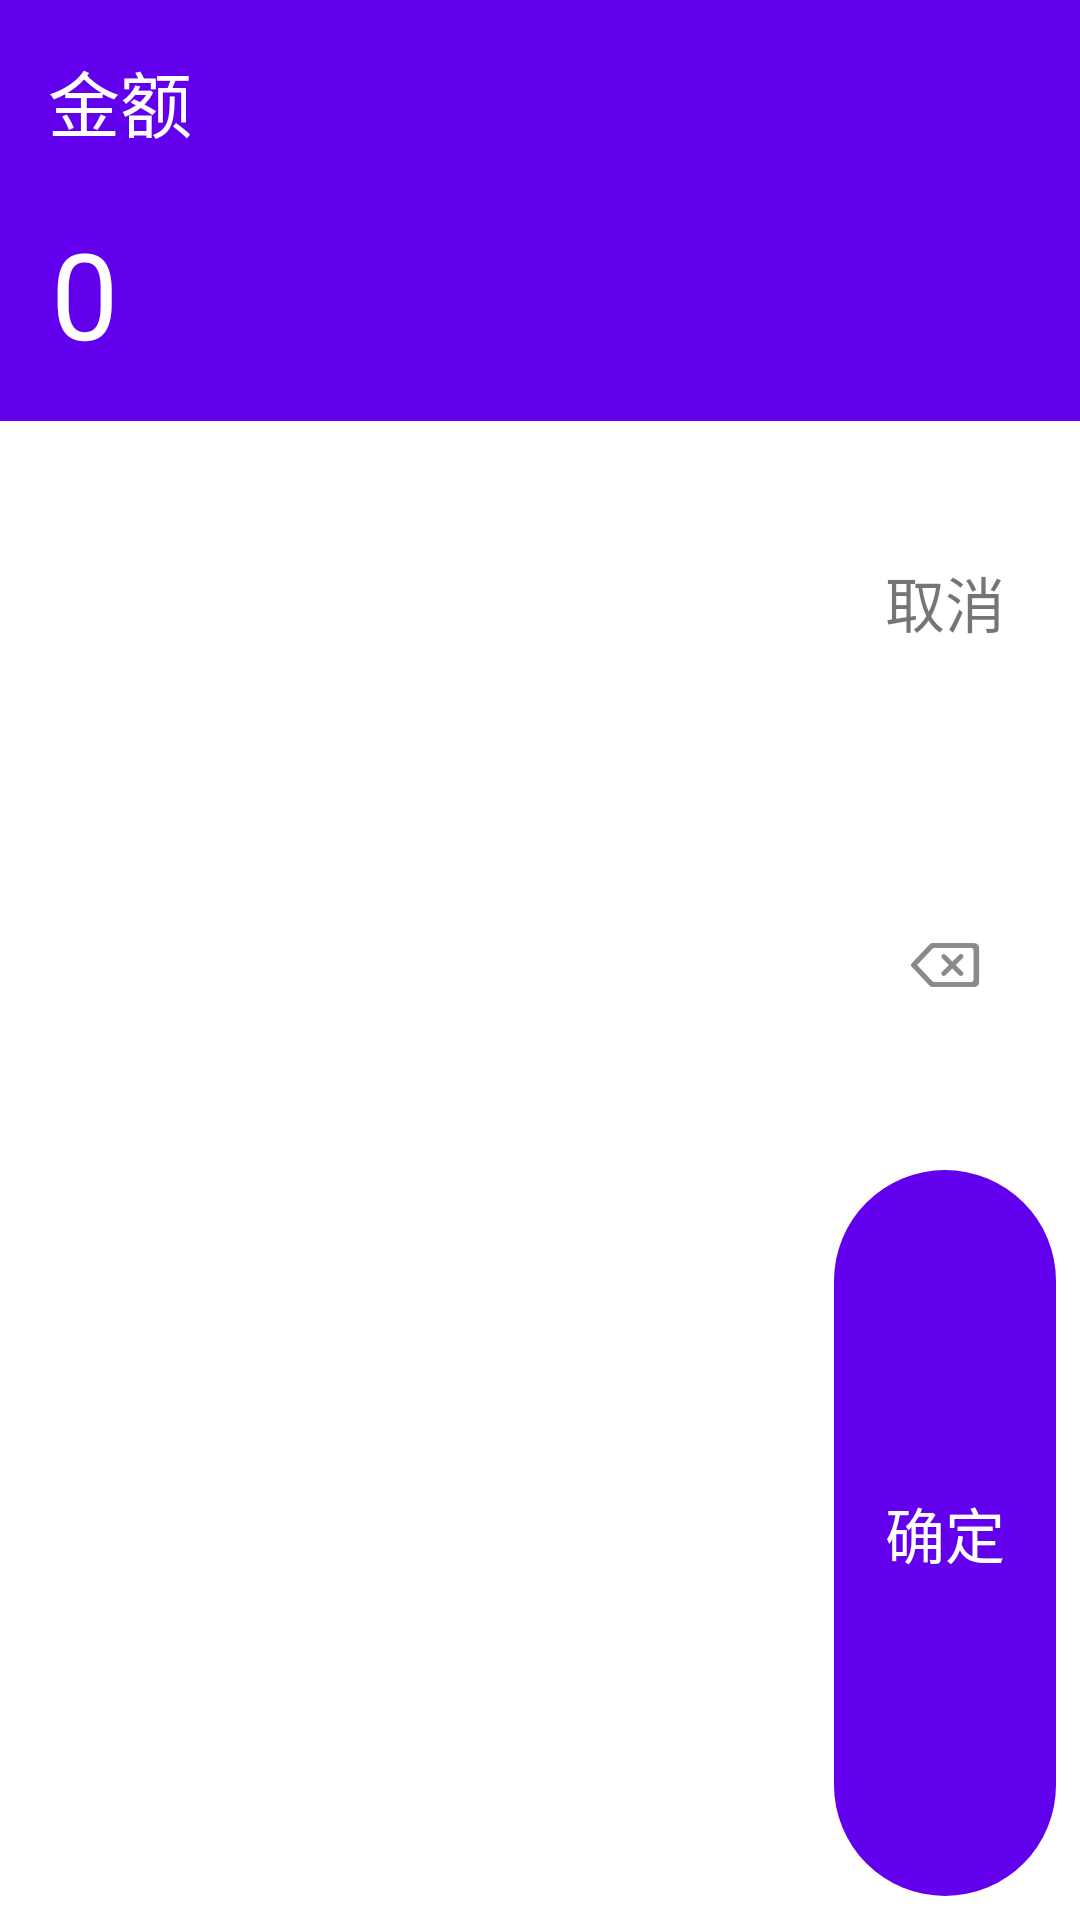

Screen size 1080px x 1920px. Icon name, then its box in pixels as [x1, y1, x2, y2]:
pcm key backspace: [911, 943, 979, 987]
